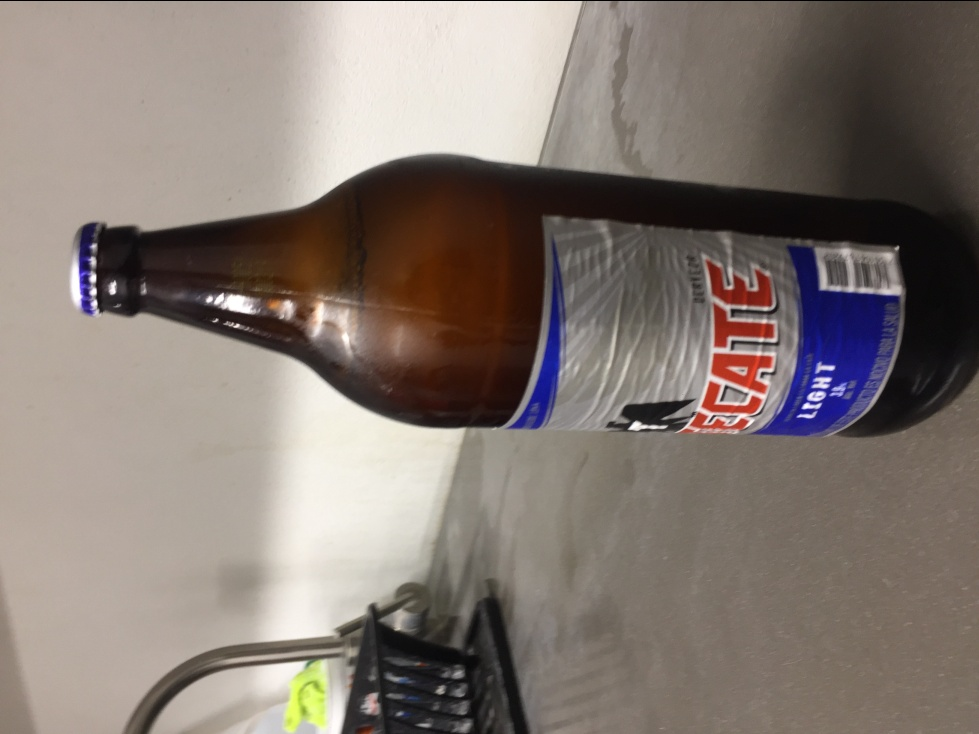tecateC: (66, 152, 979, 442)
